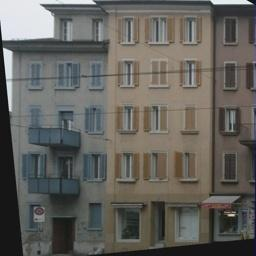building: (99, 0, 216, 256)
